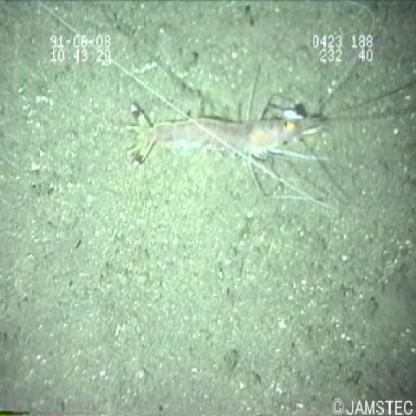Bio: (121, 4, 385, 218)
